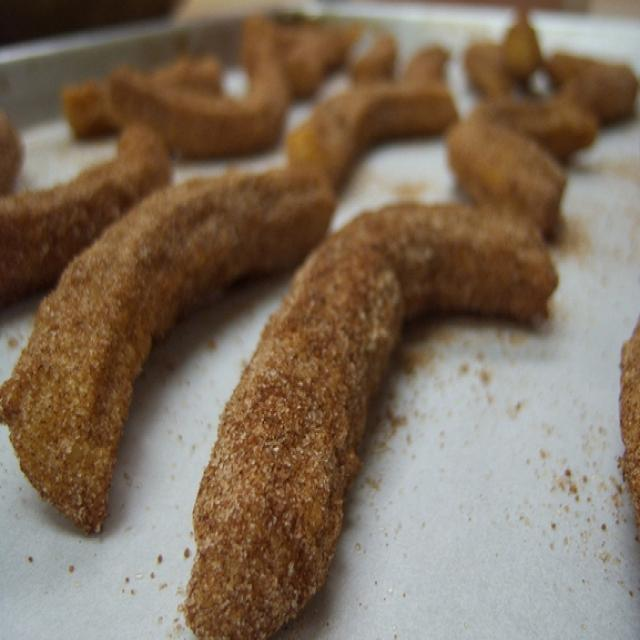炸货点心: (18, 27, 608, 594)
